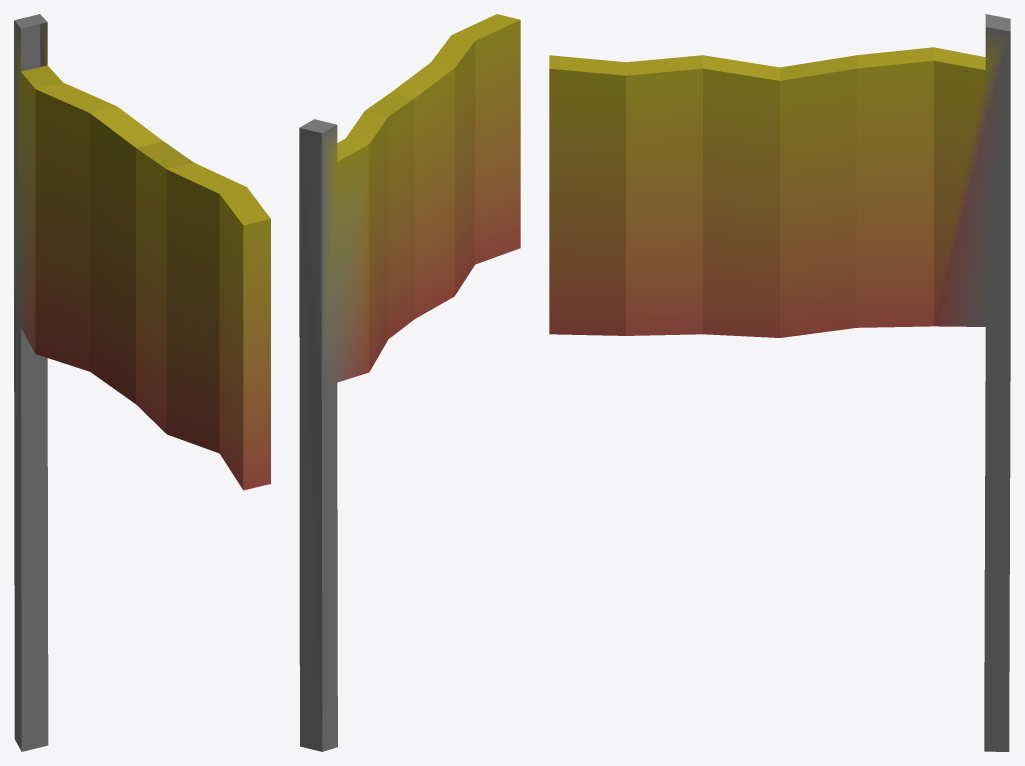
Rendered from bay-beach-flag.lod2.glb.
3 renders of one model, left to right at view 1: azimuth 30°, elevation 25°; view 2: azimuth 150°, elevation 25°; view 3: azimuth 270°, elevation 25°, orthographic. The views are drawn at different scales.
Visible parts, largest first — view 1: Gray-material; view 2: Gray-material; view 3: Gray-material.
Part boxes in pixels (x1,y1,x2,y2): Gray-material: (14, 14, 270, 751); Gray-material: (299, 14, 520, 751); Gray-material: (549, 14, 1010, 751).
Bounding box in the file's own units: 0.2523 × 3 × 1.73.
